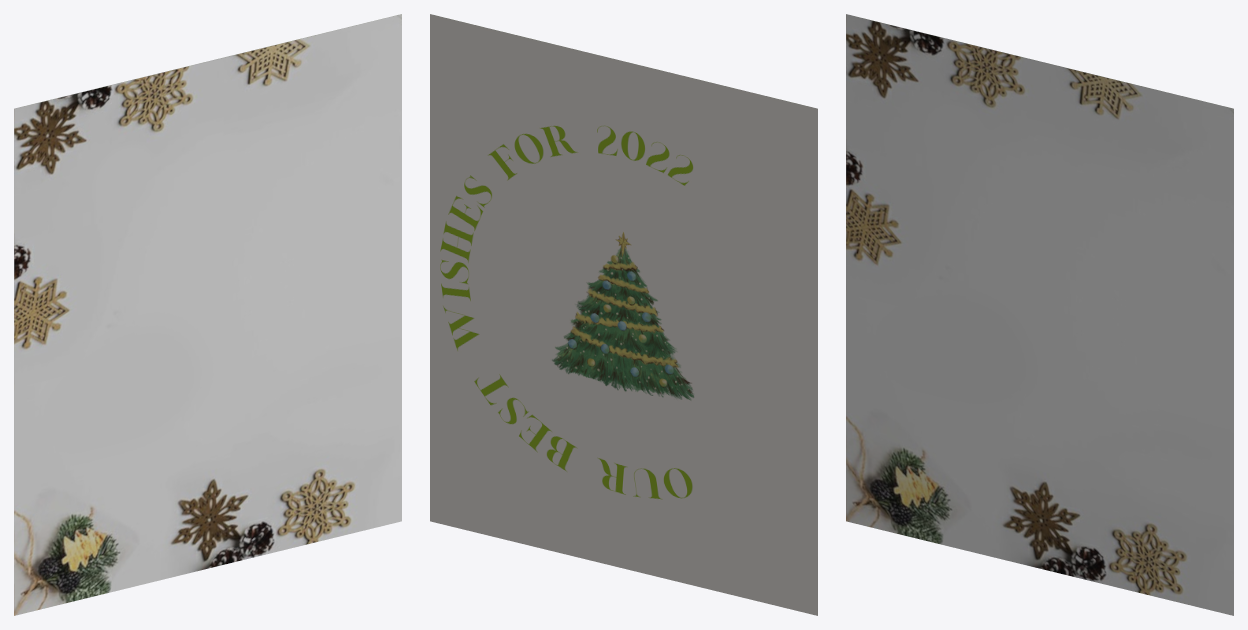
The model's file is HojaIzquierdaENG.glb.
The picture shows the model from 3 angles, left to right: view 1: azimuth 30°, elevation 25°; view 2: azimuth 150°, elevation 25°; view 3: azimuth 330°, elevation 25°; orthographic projection.
Visible parts, largest first — view 1: Izquierda1; view 2: Izquierda1; view 3: Izquierda1.
Boxes of the visible parts, x1,y1,x2,y2 form: Izquierda1: [14, 14, 401, 615]; Izquierda1: [430, 14, 817, 615]; Izquierda1: [846, 14, 1233, 615].
Bounding box in the file's own units: 0.5456 × 0.6819 × 0.000208.
Materials: 1 (1 with a texture image).
